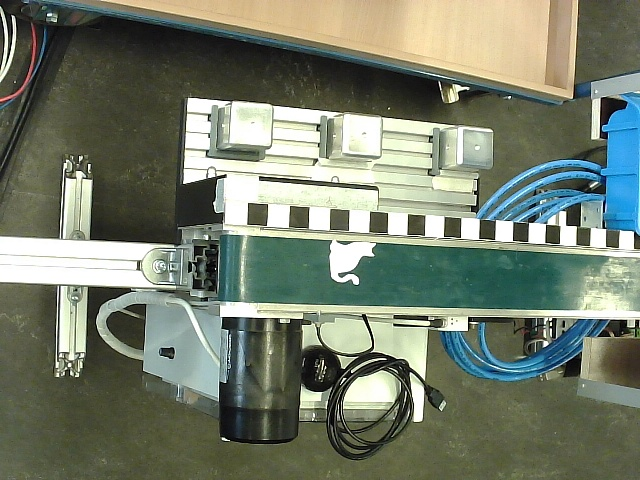cat: (329, 240, 377, 286)
